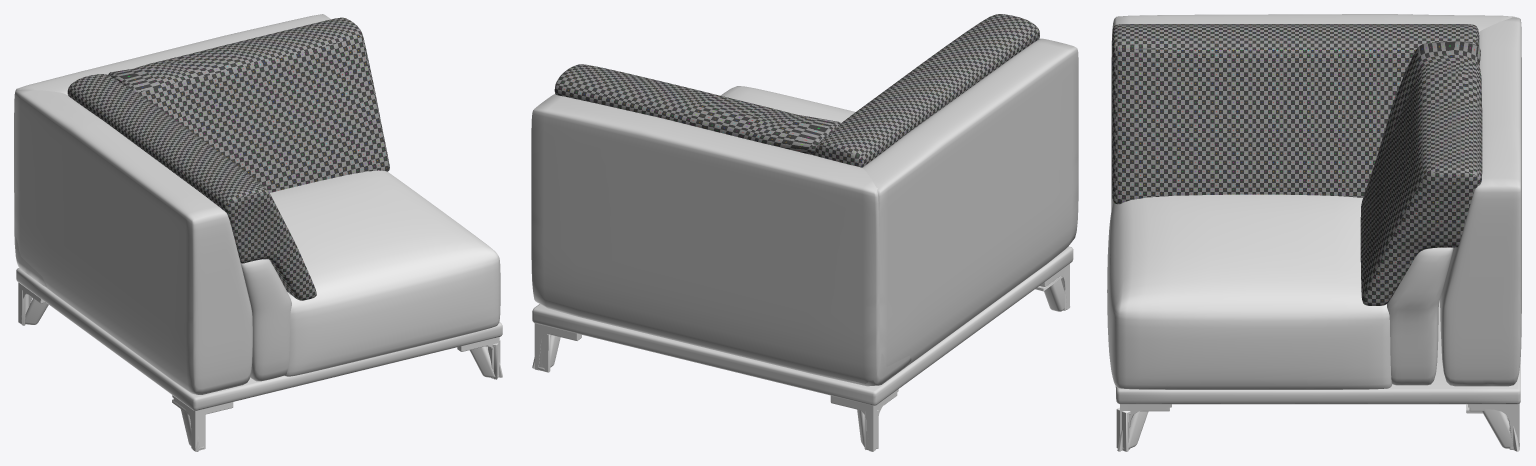
File: Manchester_roh_L.glb
The picture shows the model from 3 angles, left to right: view 1: azimuth 30°, elevation 25°; view 2: azimuth 150°, elevation 25°; view 3: azimuth 270°, elevation 25°; orthographic projection. The views are drawn at different scales.
Visible parts, largest first — view 1: body, seat_S, headrest_P, headrest_L, legs_N9, legs_N11, legs_N8, Legs_N1; view 2: body, headrest_L, headrest_P, seat_S, legs_N11, legs_N9, legs_N8, Legs_N1; view 3: seat_S, headrest_L, body, headrest_P, legs_N9, legs_N11, legs_N8.
Part boxes in pixels (x1=…): body: x1=14, y1=14, x2=502, y2=410; seat_S: x1=270, y1=170, x2=500, y2=376; headrest_P: x1=108, y1=17, x2=389, y2=192; headrest_L: x1=67, y1=74, x2=316, y2=300; legs_N9: x1=25, y1=298, x2=498, y2=449; legs_N11: x1=18, y1=282, x2=499, y2=451; legs_N8: x1=21, y1=290, x2=500, y2=450; Legs_N1: x1=21, y1=294, x2=493, y2=449; body: x1=531, y1=38, x2=1078, y2=405; headrest_L: x1=813, y1=14, x2=1039, y2=167; headrest_P: x1=554, y1=64, x2=840, y2=154; seat_S: x1=720, y1=86, x2=855, y2=122; legs_N11: x1=534, y1=264, x2=1069, y2=451; legs_N9: x1=537, y1=279, x2=1064, y2=447; legs_N8: x1=539, y1=276, x2=1062, y2=449; Legs_N1: x1=539, y1=276, x2=1066, y2=450; seat_S: x1=1107, y1=194, x2=1391, y2=389; headrest_L: x1=1112, y1=24, x2=1479, y2=204; body: x1=1111, y1=14, x2=1521, y2=404; headrest_P: x1=1360, y1=40, x2=1482, y2=305; legs_N9: x1=1122, y1=409, x2=1519, y2=449; legs_N11: x1=1120, y1=403, x2=1519, y2=449; legs_N8: x1=1116, y1=404, x2=1482, y2=451.
Bounding box in the file's own units: 1.02 × 0.7713 × 1.03.
8 materials, 1 textured.
